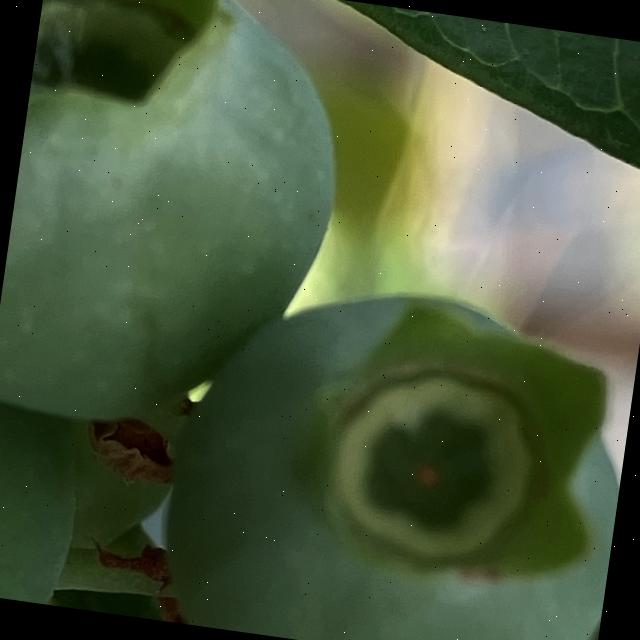Blueberries: (146, 263, 640, 640), (0, 0, 368, 457)
